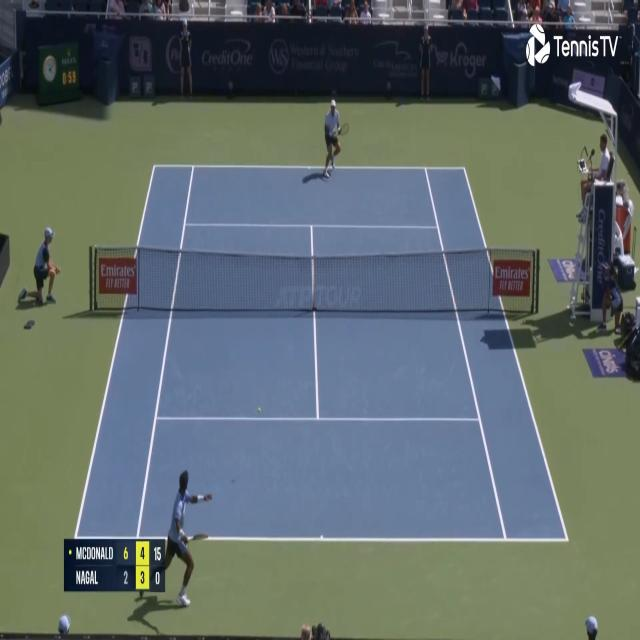tennis-player: (157, 466, 213, 611), (321, 92, 348, 181)
